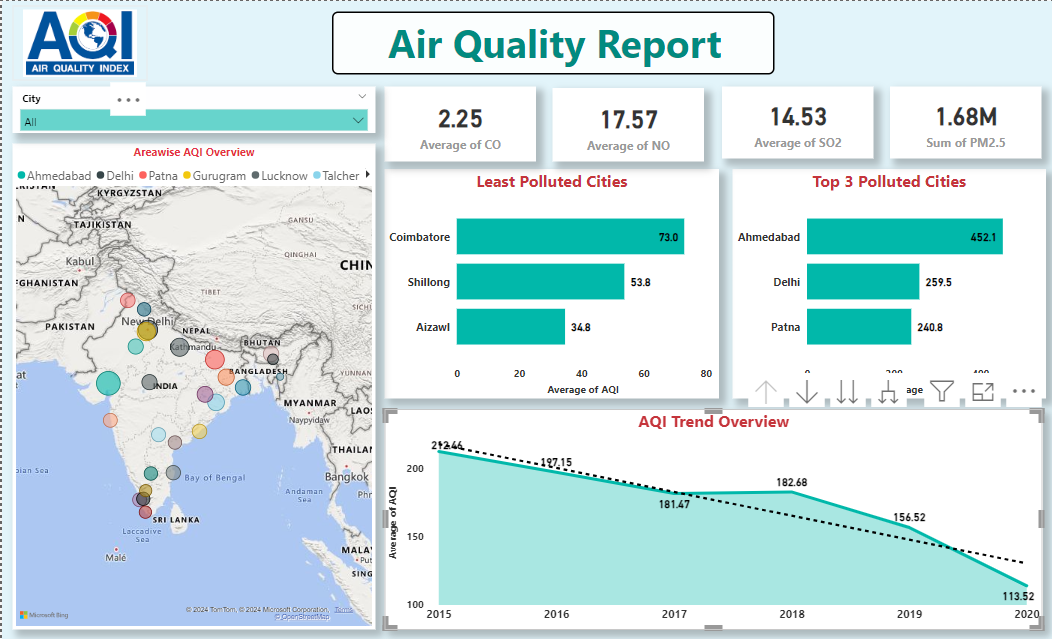

What the dashboard file says about the page in this screenshot:
{"tool":"powerbi","page":{"name":"Page 1","canvas":[1400,854],"ordinal":0},"visuals":[{"type":"lineChart","title":" AQI Trend Overview","fields":{"Category":["cityair.Date.Variation.Date Hierarchy.Year","cityair.Date.Variation.Date Hierarchy.Quarter","cityair.Date.Variation.Date Hierarchy.Month","cityair.Date.Variation.Date Hierarchy.Day"],"Y":["Avg(cityair.AQI)"]},"box":[510,544,878,294],"z":0},{"type":"clusteredBarChart","title":"Top 3 Polluted Cities","fields":{"Category":["cityair.City"],"Y":["Avg(cityair.AQI)"]},"box":[974,224,418,306],"z":1000},{"type":"clusteredBarChart","title":"Least Polluted Cities","fields":{"Category":["cityair.City"],"Y":["Avg(cityair.AQI)"]},"box":[510,224,446,306],"z":2000},{"type":"card","fields":{"Values":["Avg(cityair.CO)"]},"box":[510,114,202,100],"z":3000},{"type":"card","fields":{"Values":["Avg(cityair.NO)"]},"box":[734.7,116,202,98],"z":4000},{"type":"card","fields":{"Values":["Avg(cityair.SO2)"]},"box":[959.3,114,202,96],"z":5000},{"type":"card","fields":{"Values":["Avg(cityair.PM2.5)"]},"box":[1184,114,202,96],"z":6000},{"type":"map","title":"Areawise AQI Overview","fields":{"Category":["cityair.City"],"Size":["Avg(cityair.AQI)"],"Series":["cityair.City"]},"box":[14,190,484,648],"z":7000},{"type":"slicer","fields":{"Values":["cityair.City"]},"box":[14,114,484,62],"z":8000},{"type":"actionButton","title":"Air Quality Report","box":[440,14,590,84],"z":9000},{"type":"image","box":[14,6,180,100],"z":10000}]}

Visuals, with their boxes in screenshot pixels (x1, y1, x2, y2), scaled from the page's 1400x854 canvas onto the 1052x639 screenshot:
" AQI Trend Overview" lineChart: x1=383 y1=407 x2=1043 y2=627
"Top 3 Polluted Cities" clusteredBarChart: x1=732 y1=168 x2=1046 y2=397
"Least Polluted Cities" clusteredBarChart: x1=383 y1=168 x2=718 y2=397
card - Avg(cityair.CO): x1=383 y1=85 x2=535 y2=160
card - Avg(cityair.NO): x1=552 y1=87 x2=704 y2=160
card - Avg(cityair.SO2): x1=721 y1=85 x2=873 y2=157
card - Avg(cityair.PM2.5): x1=890 y1=85 x2=1041 y2=157
"Areawise AQI Overview" map: x1=11 y1=142 x2=374 y2=627
slicer - cityair.City: x1=11 y1=85 x2=374 y2=132
"Air Quality Report" actionButton: x1=331 y1=10 x2=774 y2=73
image: x1=11 y1=4 x2=146 y2=79
